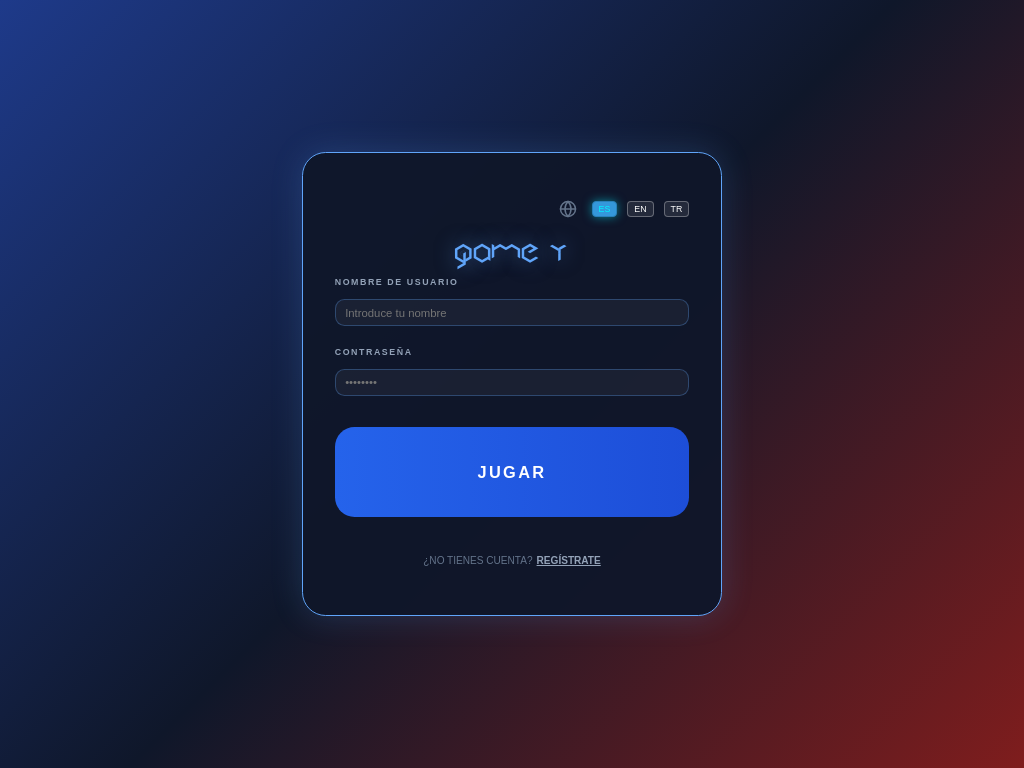
Test: RegisterForm › 3. Shows error message on API failure
Type "user" into the field with id "login-username" at (512, 313), box [335,299,689,326]
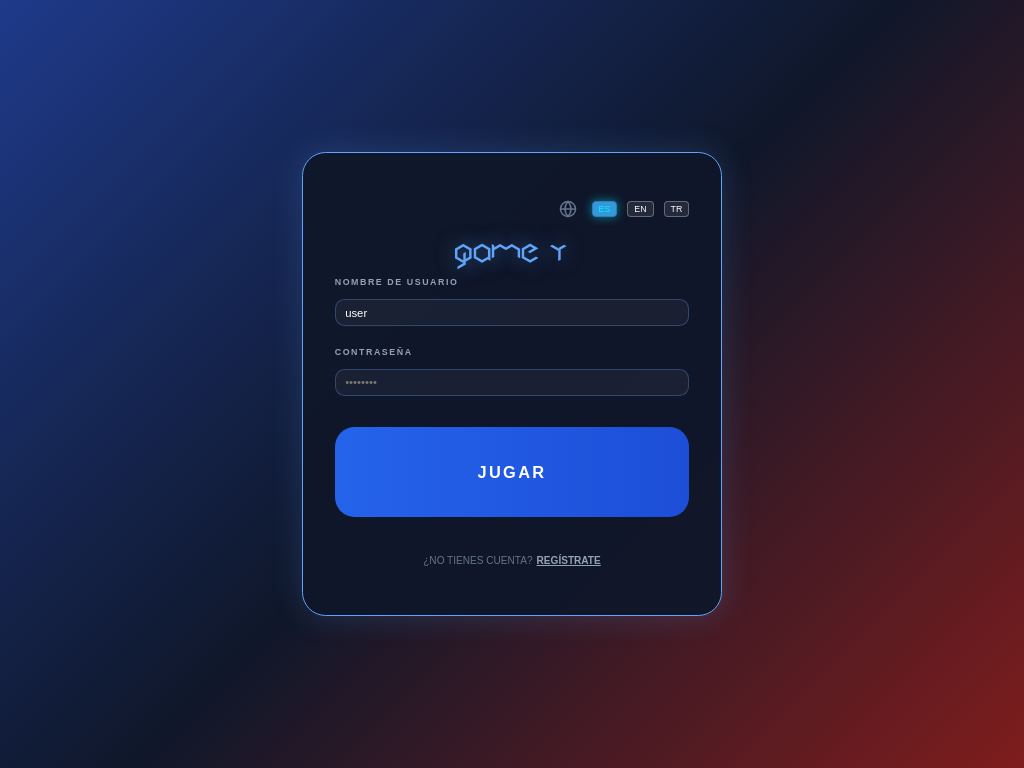
Type "pass" into the password field with id "login-password" at (512, 382), box [335,369,689,396]
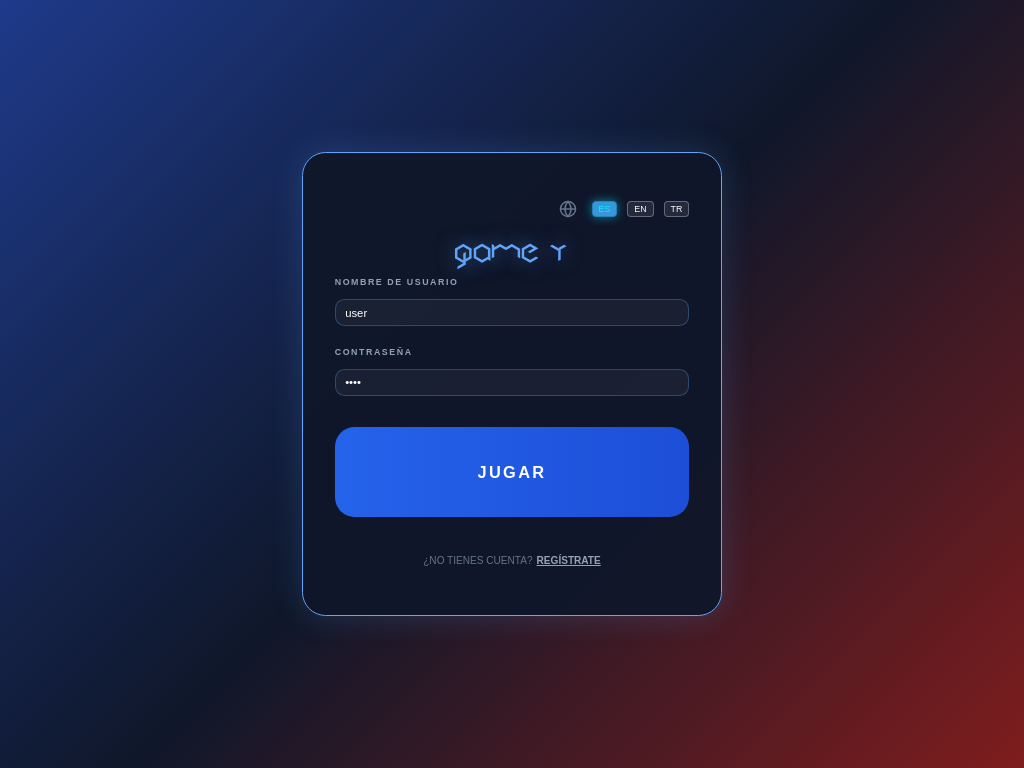
Click the submit button at (512, 472), box [335,427,689,517]
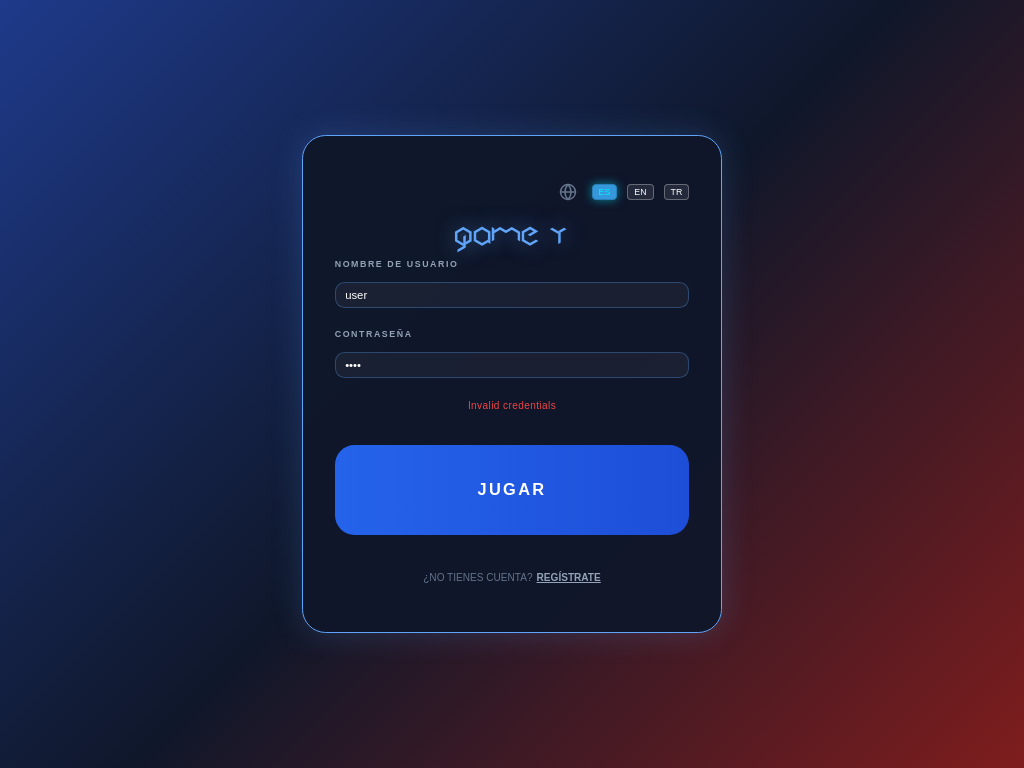
Result: the text "Invalid credentials" is shown at [468,400,556,411]
